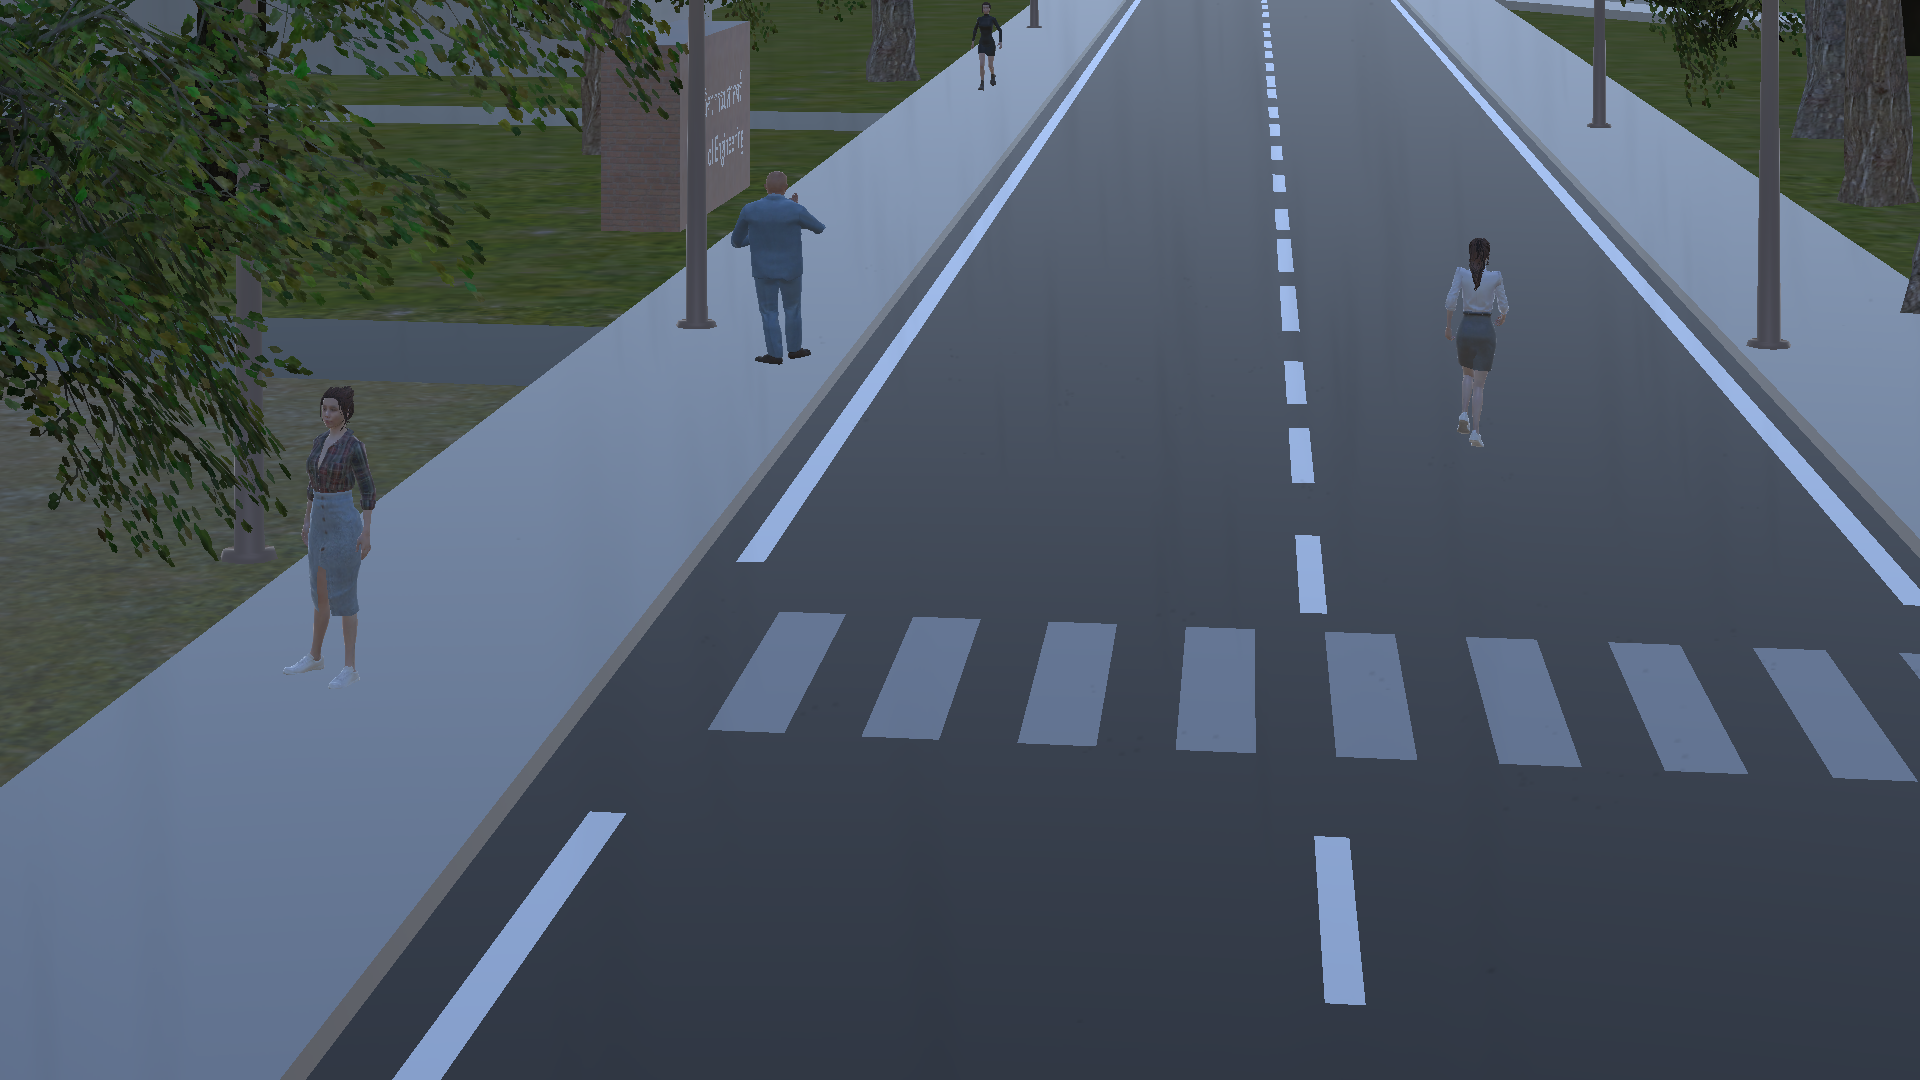pedestrian: (274, 378, 374, 699), (727, 159, 817, 375), (1436, 230, 1506, 449), (964, 3, 1005, 96)
